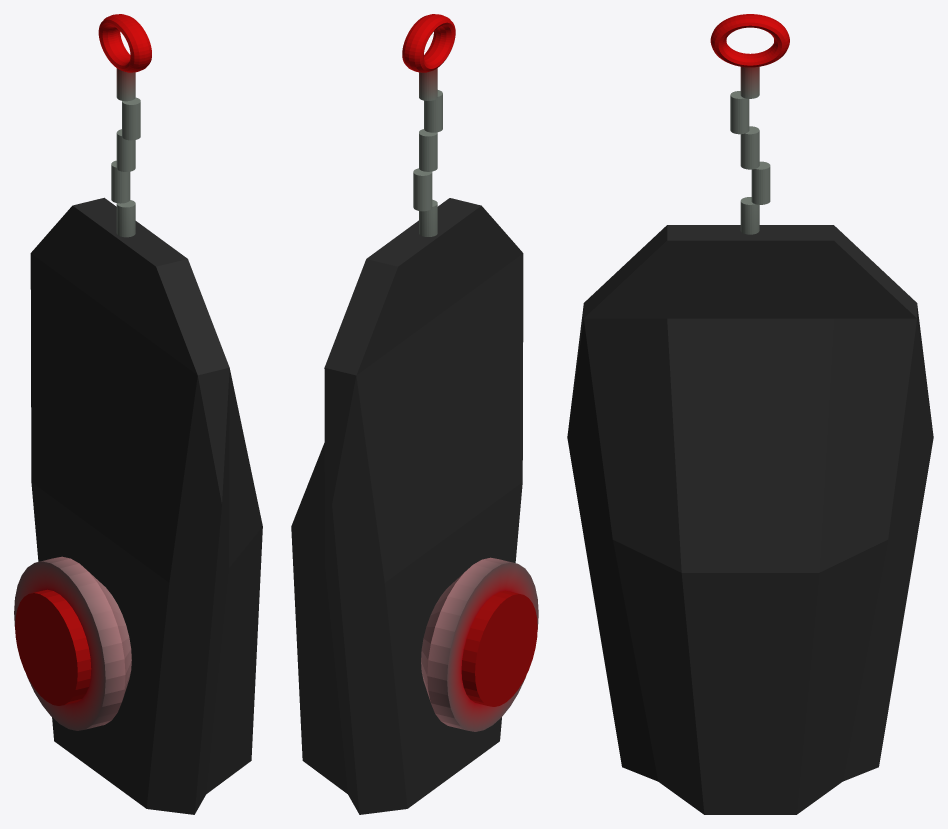
File: Controle do Portão.fbx
The picture shows the model from 3 angles, left to right: view 1: azimuth 30°, elevation 25°; view 2: azimuth 150°, elevation 25°; view 3: azimuth 270°, elevation 25°; orthographic projection.
Parts seen in each view (by area): view 1: Base Controle, Base Botão, Botão, Cabo da Antena, Ponta da antena; view 2: Base Controle, Base Botão, Botão, Cabo da Antena, Ponta da antena; view 3: Base Controle, Cabo da Antena, Ponta da antena.
Part boxes in pixels (bbox=[...]): Base Controle: bbox=[30, 197, 262, 814]; Base Botão: bbox=[14, 556, 131, 730]; Botão: bbox=[15, 589, 91, 705]; Cabo da Antena: bbox=[111, 68, 140, 237]; Ponta da antena: bbox=[98, 14, 151, 72]; Base Controle: bbox=[291, 198, 523, 814]; Base Botão: bbox=[421, 557, 538, 731]; Botão: bbox=[461, 590, 537, 706]; Cabo da Antena: bbox=[413, 68, 442, 236]; Ponta da antena: bbox=[402, 14, 455, 72]; Base Controle: bbox=[567, 225, 933, 814]; Cabo da Antena: bbox=[730, 66, 770, 234]; Ponta da antena: bbox=[710, 14, 789, 67].
Bounding box in the file's own units: 226 × 896 × 397.
